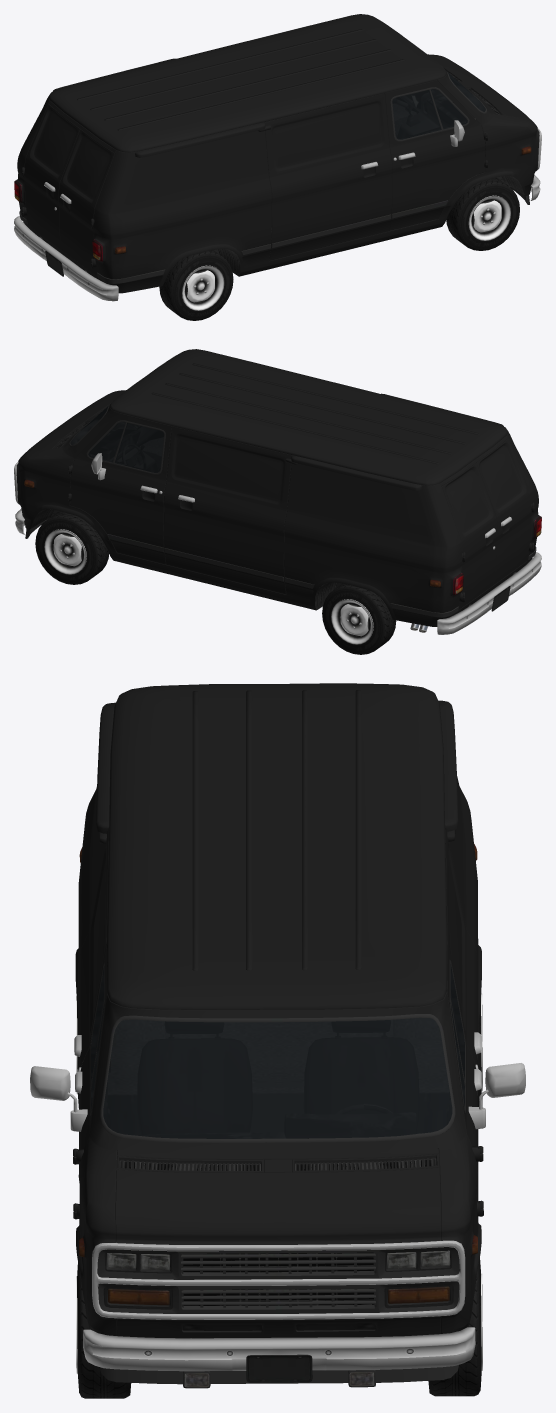
The model's file is car-van.glb.
3 renders of one model, top to bottom at view 1: azimuth 30°, elevation 25°; view 2: azimuth 150°, elevation 25°; view 3: azimuth 270°, elevation 25°, orthographic. The views are drawn at different scales.
Visible parts, largest first — view 1: Shvan92_Body_Shvan92_bodymat_0, Shvan92_WheelStock_FR_RB1c_Tire_1k_0, Shvan92_Bottom_UCB_BOTTOM_0, Shvan92_WheelStock_RL_RB1c_Tire_1k_0, Shvan92_Interior_UCB_Interiors_1_0, Shvan92_Bumper_rear_UCB_BOTTOM_0, Shvan92_Glass_Passanger_UCB_Lights_and_Glass_Transperent_0, Shvan92_Hood_Shvan92_bodymat_0, Shvan92_Body_glass_UCB_Lights_and_Glass_Transperent_0; view 2: Shvan92_Body_Shvan92_bodymat_0, Shvan92_Bottom_UCB_BOTTOM_0, Shvan92_WheelStock_FL_RB1c_Tire_1k_0, Shvan92_WheelStock_RL_RB1c_Tire_1k_0, Shvan92_Interior_UCB_Interiors_1_0, Shvan92_Bumper_rear_UCB_BOTTOM_0, Shvan92_Glass_Driver_UCB_Lights_and_Glass_Transperent_0, Shvan92_Hood_Shvan92_bodymat_0, Shvan92_Body_glass_UCB_Lights_and_Glass_Transperent_0; view 3: Shvan92_Body_Shvan92_bodymat_0, Shvan92_Bottom_UCB_BOTTOM_0, Shvan92_Interior_UCB_Interiors_1_0, Shvan92_Windshield_UCB_Lights_and_Glass_Transperent_0, Shvan92_Hood_Shvan92_bodymat_0, Shvan92_Bumper_front_UCB_BOTTOM_0, Shvan92_Headlights_Glass_UCB_Lights_and_Glass_Transperent_0, Shvan92_WheelStock_FL_RB1c_Tire_1k_0, Shvan92_WheelStock_FR_RB1c_Tire_1k_0, Shvan92_Headlights_UCB_Lights_and_Glass_0, Shvan92_Blinkers_UCB_Lights_and_Glass_0.
Boxes of the visible parts, <box> form: Shvan92_Body_Shvan92_bodymat_0: <box>16,14,539,293</box>; Shvan92_WheelStock_FR_RB1c_Tire_1k_0: <box>446,177,519,250</box>; Shvan92_Bottom_UCB_BOTTOM_0: <box>19,43,541,283</box>; Shvan92_WheelStock_RL_RB1c_Tire_1k_0: <box>159,250,233,320</box>; Shvan92_Interior_UCB_Interiors_1_0: <box>266,78,485,231</box>; Shvan92_Bumper_rear_UCB_BOTTOM_0: <box>14,216,118,301</box>; Shvan92_Glass_Passanger_UCB_Lights_and_Glass_Transperent_0: <box>392,90,441,139</box>; Shvan92_Hood_Shvan92_bodymat_0: <box>430,56,532,121</box>; Shvan92_Body_glass_UCB_Lights_and_Glass_Transperent_0: <box>430,89,467,129</box>; Shvan92_Body_Shvan92_bodymat_0: <box>16,349,539,626</box>; Shvan92_Bottom_UCB_BOTTOM_0: <box>14,399,536,632</box>; Shvan92_WheelStock_FL_RB1c_Tire_1k_0: <box>35,511,109,584</box>; Shvan92_WheelStock_RL_RB1c_Tire_1k_0: <box>322,583,396,654</box>; Shvan92_Interior_UCB_Interiors_1_0: <box>71,414,163,472</box>; Shvan92_Bumper_rear_UCB_BOTTOM_0: <box>437,552,541,634</box>; Shvan92_Glass_Driver_UCB_Lights_and_Glass_Transperent_0: <box>114,423,163,472</box>; Shvan92_Hood_Shvan92_bodymat_0: <box>23,392,123,454</box>; Shvan92_Body_glass_UCB_Lights_and_Glass_Transperent_0: <box>88,422,125,462</box>; Shvan92_Body_Shvan92_bodymat_0: <box>73,683,483,1338</box>; Shvan92_Bottom_UCB_BOTTOM_0: <box>30,844,525,1388</box>; Shvan92_Interior_UCB_Interiors_1_0: <box>85,943,464,1163</box>; Shvan92_Windshield_UCB_Lights_and_Glass_Transperent_0: <box>103,1017,452,1138</box>; Shvan92_Hood_Shvan92_bodymat_0: <box>115,1167,441,1244</box>; Shvan92_Bumper_front_UCB_BOTTOM_0: <box>83,1327,475,1382</box>; Shvan92_Headlights_Glass_UCB_Lights_and_Glass_Transperent_0: <box>107,1250,450,1305</box>; Shvan92_WheelStock_FL_RB1c_Tire_1k_0: <box>428,1258,482,1396</box>; Shvan92_WheelStock_FR_RB1c_Tire_1k_0: <box>76,1263,131,1398</box>; Shvan92_Headlights_UCB_Lights_and_Glass_0: <box>107,1251,449,1269</box>; Shvan92_Blinkers_UCB_Lights_and_Glass_0: <box>108,1287,448,1304</box>.
Size of the model in its own units: 4.9 by 1.93 by 2.35.
8 materials, 7 textured.
